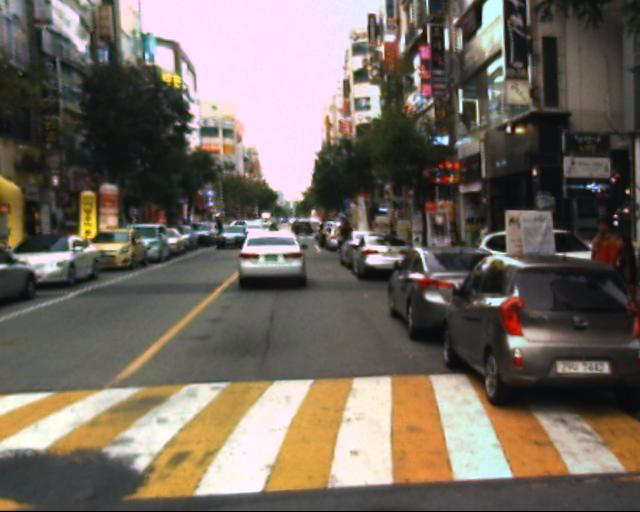person: (588, 210, 623, 318), (601, 229, 636, 320)
